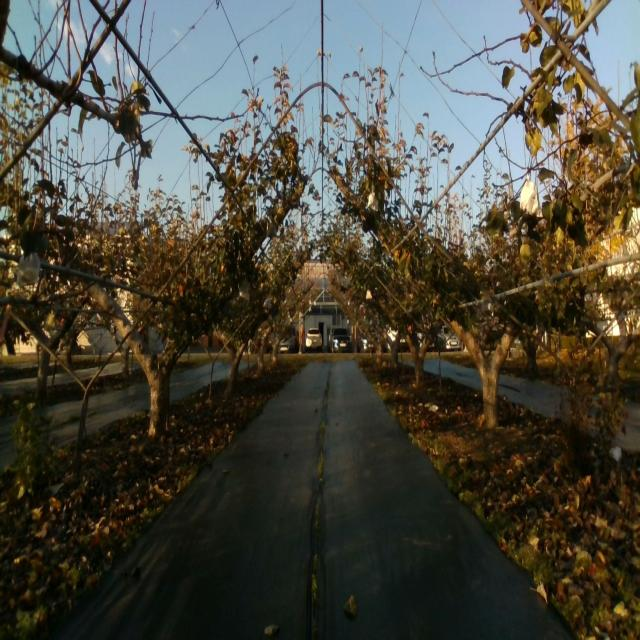pearbags: (520, 174, 543, 218), (15, 251, 40, 287), (366, 192, 378, 212)
